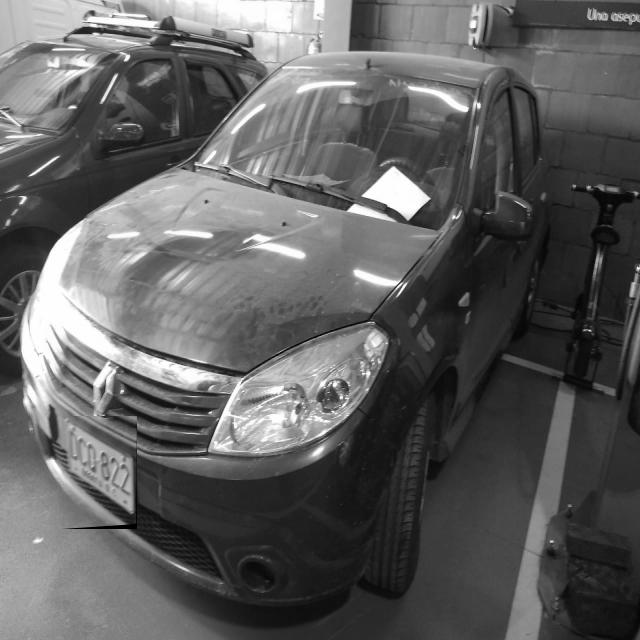plate: (63, 417, 137, 525)
